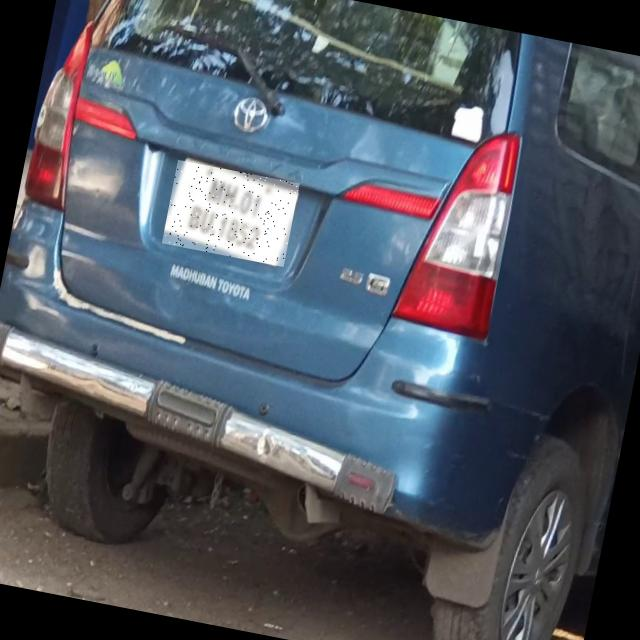Plate: (163, 161, 301, 268)
